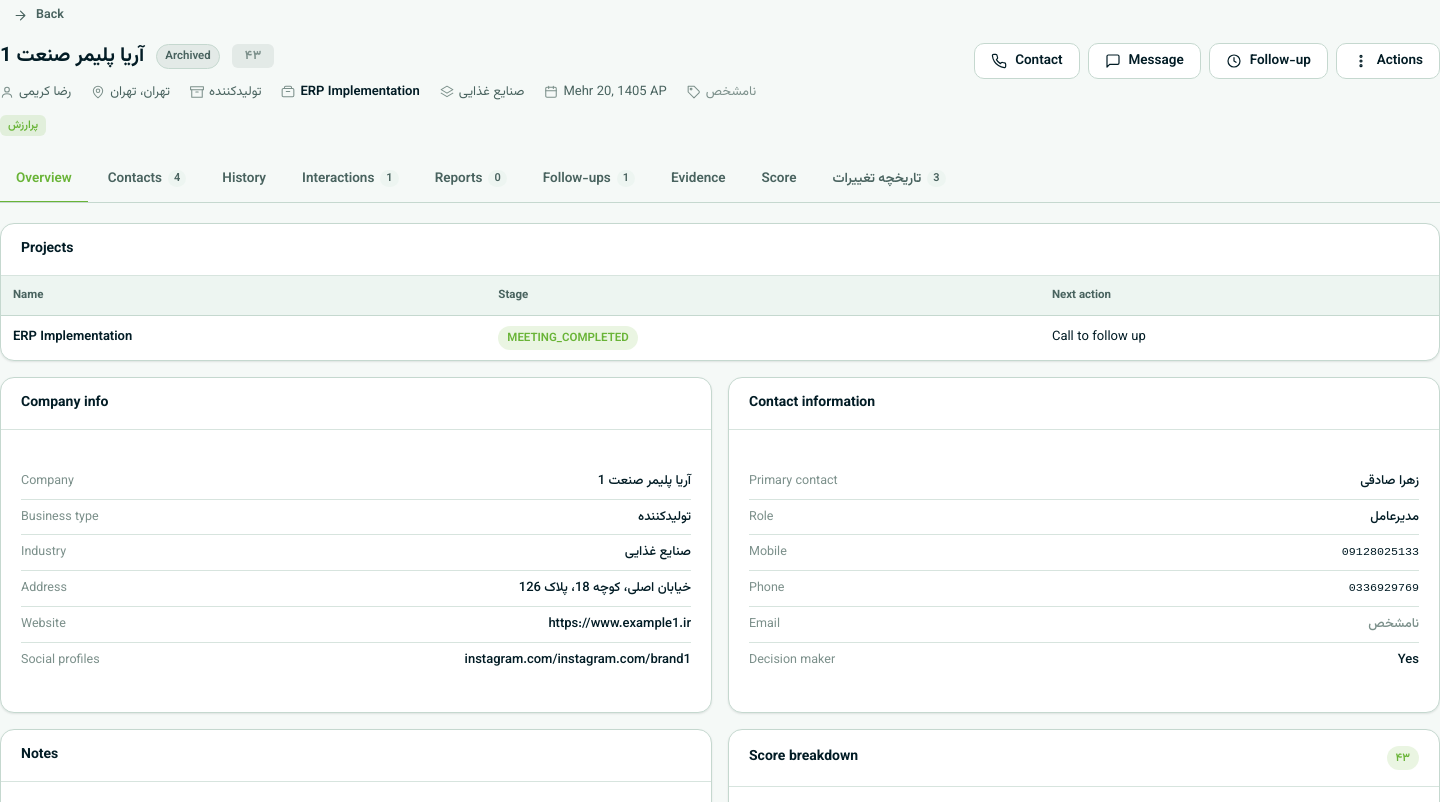
Scenario: lead detail localization › keeps English translations when English is active
Click the tab "History": (244, 180) [206, 156, 282, 203]
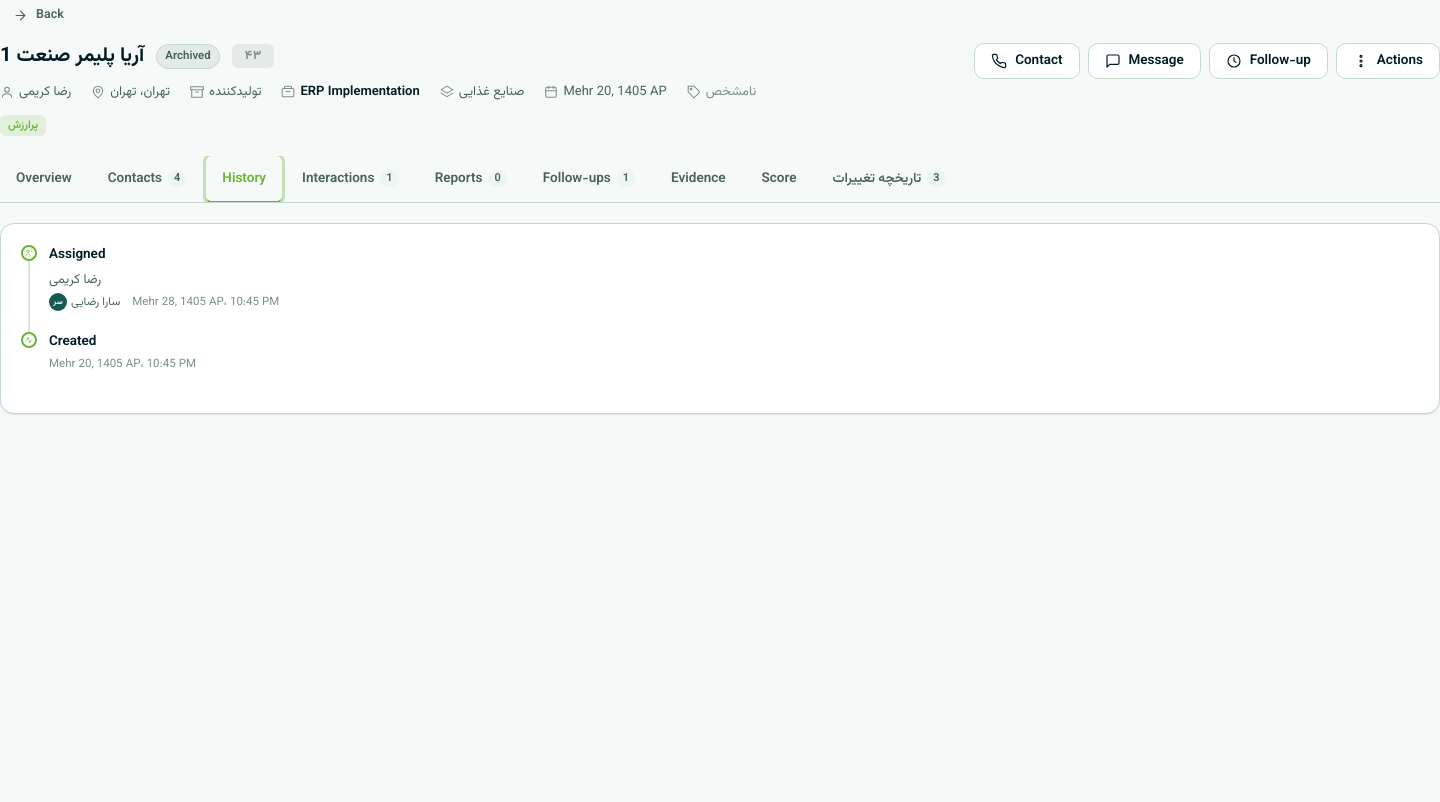
Expected: the text "Created" is shown, [49, 331, 96, 352]
Click the tab "Score": (779, 180) [746, 156, 812, 203]
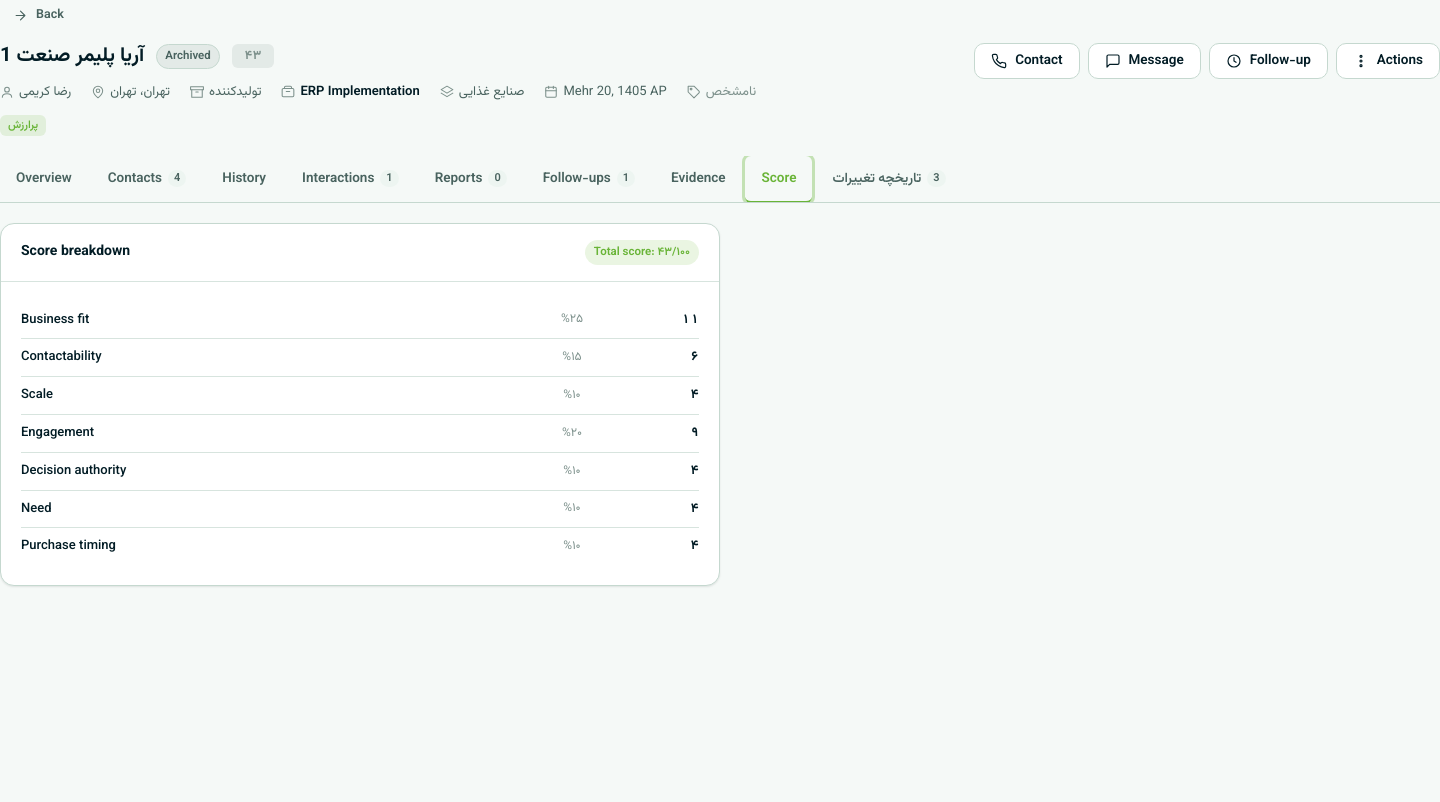
Expected: the text "Business fit" is shown, [21, 310, 89, 330]
